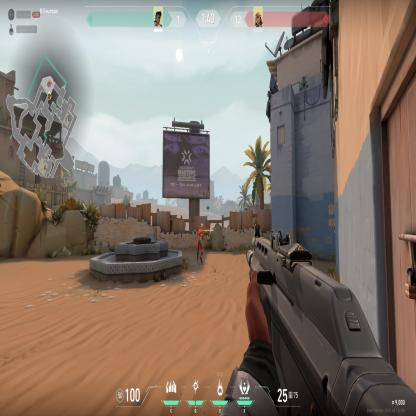enemy: (196, 222, 210, 265)
